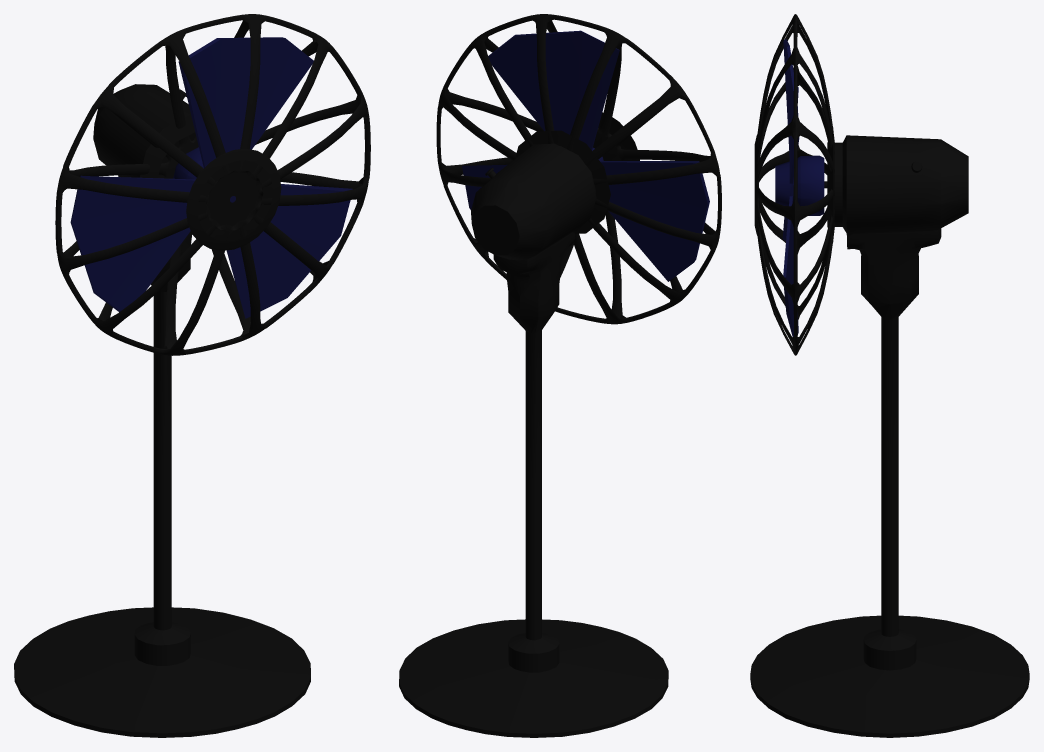
The model's file is Colling Fan.obj.
3 renders of one model, left to right at view 1: azimuth 30°, elevation 25°; view 2: azimuth 150°, elevation 25°; view 3: azimuth 270°, elevation 25°, orthographic. The views are drawn at different scales.
Parts seen in each view (by area): view 1: Mesh, Mesh (2); view 2: Mesh, Mesh (2); view 3: Mesh, Mesh (2).
Part boxes in pixels (<box>): Mesh: <box>14,14,370,737</box>; Mesh (2): <box>70,37,352,318</box>; Mesh: <box>399,14,721,737</box>; Mesh (2): <box>462,30,709,281</box>; Mesh: <box>750,14,1029,737</box>; Mesh (2): <box>775,39,824,336</box>.
Bounding box in the file's own units: 0.7141 × 1.51 × 0.5861.
